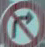Don't turn right: (2, 2, 41, 46)
